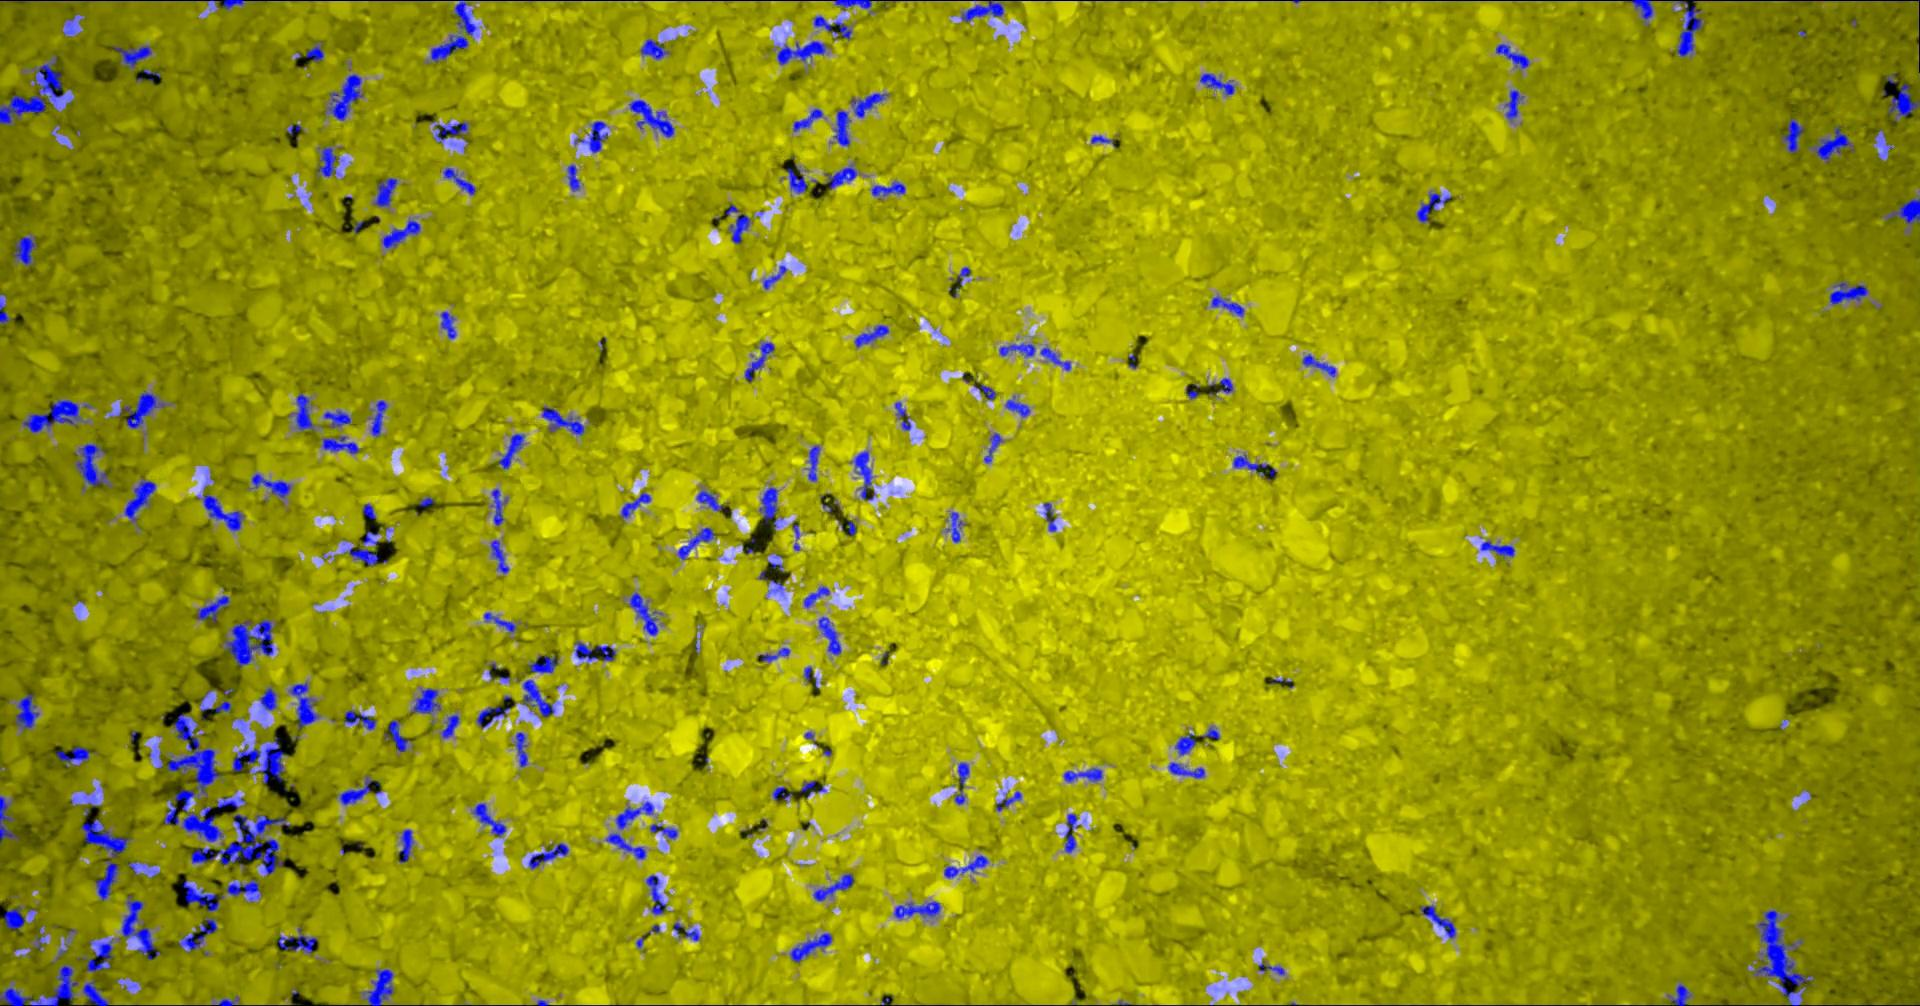ant: (0, 964, 77, 1005), (430, 0, 476, 62), (232, 735, 286, 784), (121, 894, 159, 959), (80, 818, 131, 857), (22, 399, 81, 432), (1810, 124, 1854, 163), (629, 99, 674, 136), (196, 494, 243, 530), (328, 74, 363, 119), (123, 391, 165, 428), (74, 443, 108, 485), (1676, 0, 1702, 56), (123, 478, 155, 520), (182, 879, 223, 911), (290, 682, 317, 728), (178, 918, 216, 951), (75, 939, 113, 970), (629, 592, 657, 635), (744, 342, 775, 381), (776, 39, 825, 64), (1420, 904, 1455, 937), (541, 406, 583, 434), (811, 873, 853, 901), (789, 934, 830, 962), (677, 527, 714, 559), (522, 680, 554, 716), (1232, 453, 1276, 479), (382, 218, 420, 248), (574, 119, 607, 152), (471, 803, 505, 835), (1416, 192, 1451, 222), (615, 801, 653, 829), (604, 832, 645, 857), (364, 968, 392, 1005), (1888, 83, 1919, 116), (528, 842, 568, 868), (850, 91, 888, 117), (943, 855, 988, 876), (497, 433, 524, 467), (277, 929, 316, 953), (855, 450, 874, 499), (95, 859, 118, 899), (196, 594, 229, 622), (339, 776, 372, 804), (813, 15, 851, 39), (113, 44, 151, 69), (725, 205, 749, 243), (251, 473, 290, 497), (961, 0, 1003, 22), (443, 166, 475, 194), (1887, 196, 1919, 224), (1495, 43, 1529, 69), (1829, 281, 1867, 304), (818, 616, 841, 654), (14, 694, 38, 729), (55, 746, 94, 767), (0, 795, 19, 840), (893, 901, 940, 918), (1199, 72, 1234, 95), (226, 878, 260, 901), (620, 492, 650, 517), (574, 641, 615, 661), (383, 720, 409, 751), (1782, 117, 1803, 152), (343, 547, 386, 565), (646, 875, 665, 915), (759, 486, 777, 528), (476, 706, 510, 728), (1039, 347, 1070, 370), (295, 392, 314, 431), (434, 121, 467, 142), (1302, 354, 1335, 376), (827, 165, 856, 189), (13, 236, 37, 265), (410, 688, 439, 713), (1210, 296, 1243, 316), (855, 325, 888, 345), (792, 108, 822, 131), (316, 147, 339, 177), (375, 177, 397, 206), (323, 436, 359, 453), (83, 979, 108, 1005), (3, 904, 24, 934), (483, 612, 516, 631), (343, 710, 375, 729), (1063, 767, 1102, 782), (1064, 813, 1079, 852), (1623, 0, 1652, 20), (696, 490, 725, 511), (1168, 762, 1204, 779), (954, 762, 968, 804), (1503, 89, 1523, 119), (786, 165, 808, 192), (803, 586, 829, 607), (640, 38, 668, 58), (833, 111, 850, 145), (490, 540, 508, 572), (763, 265, 786, 290), (1481, 540, 1514, 556), (371, 400, 386, 436), (983, 433, 1001, 464), (491, 489, 507, 525), (871, 180, 905, 196), (947, 512, 964, 542), (527, 655, 557, 672), (397, 829, 413, 862), (295, 43, 323, 61), (323, 409, 350, 427), (996, 791, 1021, 810), (894, 401, 910, 431), (1175, 733, 1196, 754), (758, 570, 782, 589), (999, 343, 1035, 356), (757, 647, 789, 661), (799, 780, 825, 796), (1670, 983, 1690, 1005), (1004, 399, 1029, 417), (649, 823, 677, 838), (808, 445, 819, 481), (1043, 502, 1057, 531), (439, 311, 455, 338), (441, 714, 458, 737), (516, 732, 527, 766), (259, 687, 276, 710), (834, 0, 871, 10), (974, 384, 996, 399), (207, 0, 244, 9), (1090, 135, 1115, 147), (1258, 962, 1284, 974), (804, 666, 818, 688), (216, 796, 244, 808), (568, 164, 579, 191), (772, 786, 792, 800), (63, 13, 76, 34), (955, 267, 970, 285), (1217, 377, 1232, 392), (678, 929, 698, 940), (362, 530, 378, 544), (0, 293, 8, 323), (1200, 727, 1219, 738), (362, 503, 375, 520), (215, 700, 231, 713), (1185, 384, 1197, 398), (418, 495, 433, 507), (213, 998, 237, 1005)
